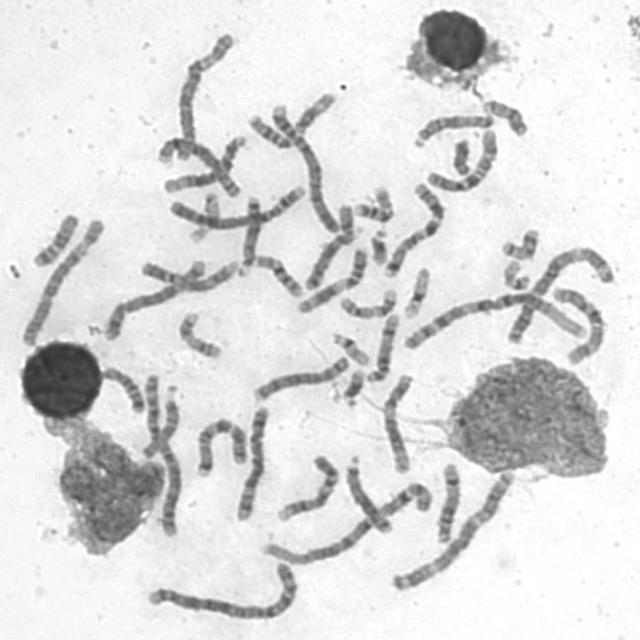A1: (256, 477, 436, 567), (398, 286, 591, 352)
A2: (141, 559, 301, 624), (136, 368, 184, 540)
A3: (386, 466, 518, 594), (501, 241, 618, 346)
B4: (268, 97, 343, 236), (164, 180, 308, 232)
B5: (100, 255, 209, 342), (231, 402, 271, 524)
C10: (421, 124, 501, 193), (547, 282, 609, 367)
C11: (242, 87, 338, 150), (292, 241, 371, 316)
C12: (162, 135, 248, 195), (378, 369, 417, 475)
C6: (17, 212, 109, 348), (169, 26, 238, 167)
C7: (377, 177, 449, 280), (191, 413, 250, 479)
C8: (153, 135, 243, 199), (249, 352, 352, 404)
C9: (272, 450, 341, 524), (136, 256, 242, 294)
D13: (340, 450, 396, 536), (233, 190, 264, 278)
D14: (362, 310, 402, 384), (432, 458, 463, 544)
D15: (408, 108, 497, 149), (138, 381, 182, 461)
E16: (249, 250, 306, 300), (350, 180, 398, 222)
E17: (174, 308, 225, 361), (335, 284, 399, 321)
E18: (27, 208, 82, 269), (98, 362, 146, 416)
F19: (185, 187, 222, 244), (398, 262, 433, 320)
F20: (479, 94, 530, 138), (497, 224, 543, 262)
G21: (338, 364, 366, 410), (366, 223, 391, 267)
G22: (328, 328, 373, 367), (499, 254, 534, 292)
X: (300, 202, 354, 292)
Y: (448, 134, 474, 176)
